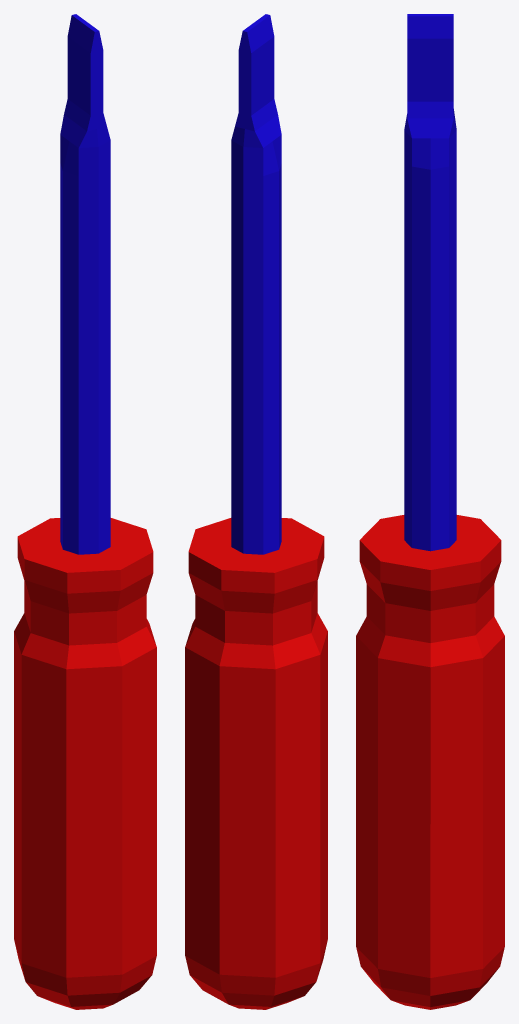
File: Screwdriver.fbx
3 renders of one model, left to right at view 1: azimuth 30°, elevation 25°; view 2: azimuth 150°, elevation 25°; view 3: azimuth 270°, elevation 25°, orthographic.
Parts seen in each view (by area): view 1: Cylinder; view 2: Cylinder; view 3: Cylinder.
Part boxes in pixels (box(x1,y1,x2,y2)): Cylinder: box(14, 14, 156, 1009); Cylinder: box(185, 14, 327, 1009); Cylinder: box(356, 14, 504, 1009).
Bounding box in the file's own units: 200 × 1458 × 200.
